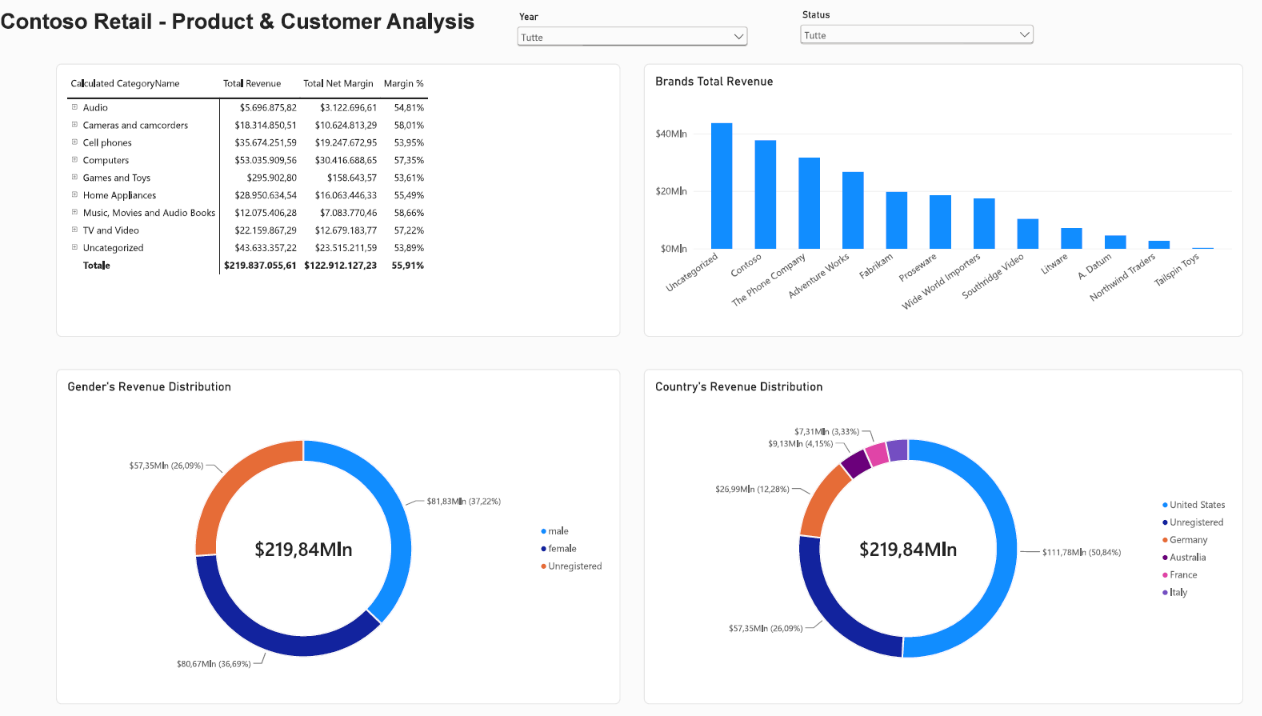

What the dashboard file says about the page in this screenshot:
{"tool":"powerbi","page":{"name":"Product & Customer Analysis","canvas":[1920,1080],"ordinal":1},"visuals":[{"type":"textbox","box":[0,18.4,760.1,103.1],"z":0},{"type":"donutChart","title":"Gender''s Revenue Distribution","fields":{"Category":["sales.Calculated Gender"],"Y":["sales.Total Revenue"]},"box":[82.8,552.2,837.4,496.9],"z":1},{"type":"pivotTable","fields":{"Rows":["sales.Calculated CategoryName","sales.Calculated Brands"],"Values":["sales.Total Revenue","sales.Total Net Margin","sales.Margin %"]},"box":[82.8,99.4,837.4,404.9],"z":2},{"type":"donutChart","title":"Country''s Revenue Distribution","fields":{"Category":["sales.Colonna"],"Y":["sales.Total Revenue"]},"box":[955.2,552.2,889,496.9],"z":3},{"type":"clusteredColumnChart","title":"Brands Total Revenue","fields":{"Category":["sales.Calculated Brands"],"Y":["sales.Total Revenue"]},"box":[955,99,889,405],"z":4},{"type":"slicer","fields":{"Values":["Calendar.Year"]},"box":[761.6,20.6,352,222.3],"z":5},{"type":"slicer","fields":{"Values":["store.Status"]},"box":[1181.6,18.4,356.1,150.3],"z":6}]}

Visuals, with their boxes in screenshot pixels (x1, y1, x2, y2), scaled from the page's 1920x1080 canvas onto the 1262x716 screenshot:
textbox: 0 12 500 81
"Gender''s Revenue Distribution" donutChart: 54 366 605 696
pivotTable - sales.Calculated CategoryName x sales.Calculated Brands: 54 66 605 334
"Country''s Revenue Distribution" donutChart: 628 366 1212 696
"Brands Total Revenue" clusteredColumnChart: 628 66 1212 334
slicer - Calendar.Year: 501 14 732 161
slicer - store.Status: 777 12 1011 112
